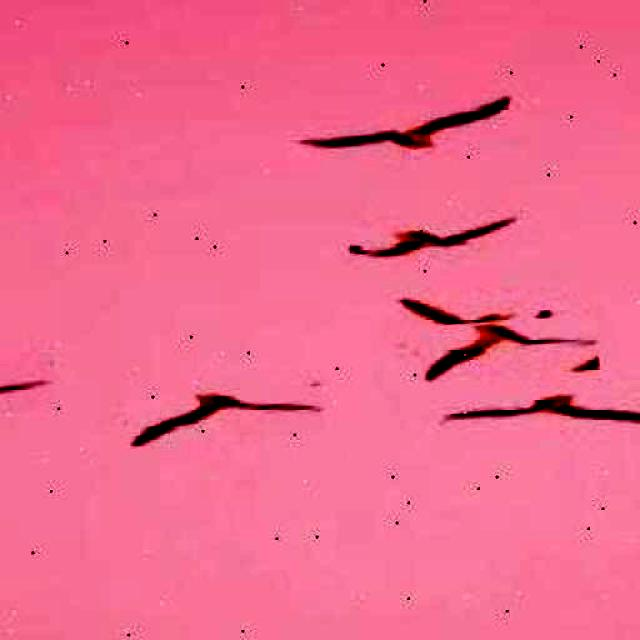airplane: (294, 94, 514, 158), (416, 312, 598, 381), (124, 384, 324, 446), (442, 386, 640, 438), (395, 288, 555, 344), (345, 214, 519, 260), (0, 359, 55, 425)
